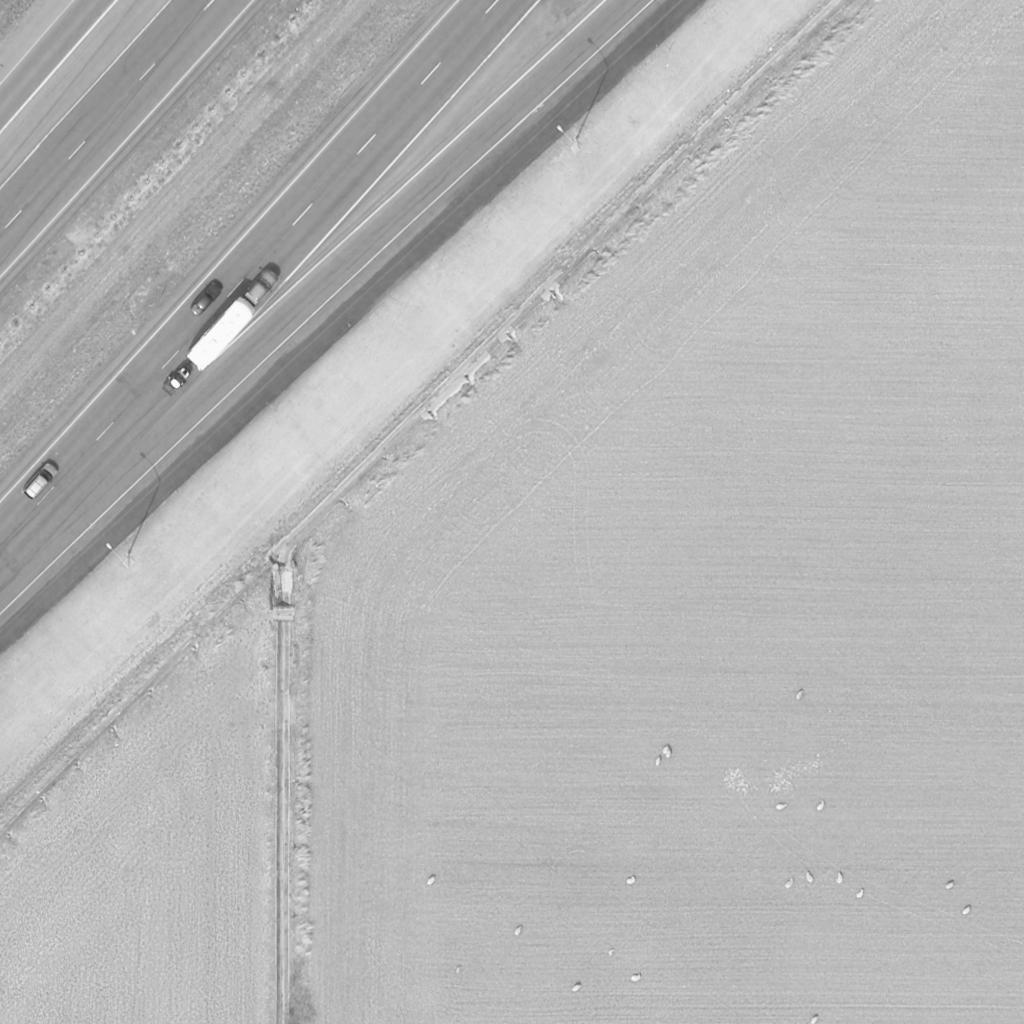vehicle: (185, 297, 259, 373), (235, 268, 281, 320), (19, 462, 59, 504), (190, 279, 224, 319)
